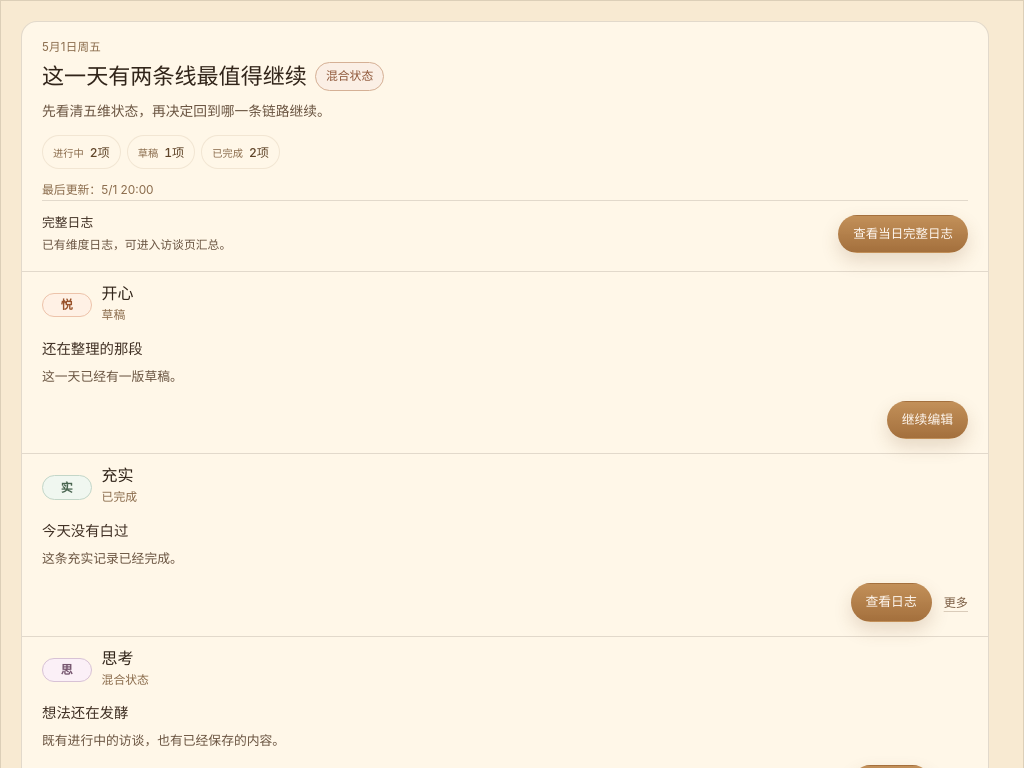
Test: calendar day shell › renders a compact day workspace with stable primary actions
expect the text "进行中" is shown: met, box [53,147,84,159]
expect the text "草稿" next to "1项" is shown: met, box [138,147,158,159]
Click the button with aria-label "充实，已完成，今天没有白过，更多操作": (956, 602) [944,593,968,612]
(page scrolled)
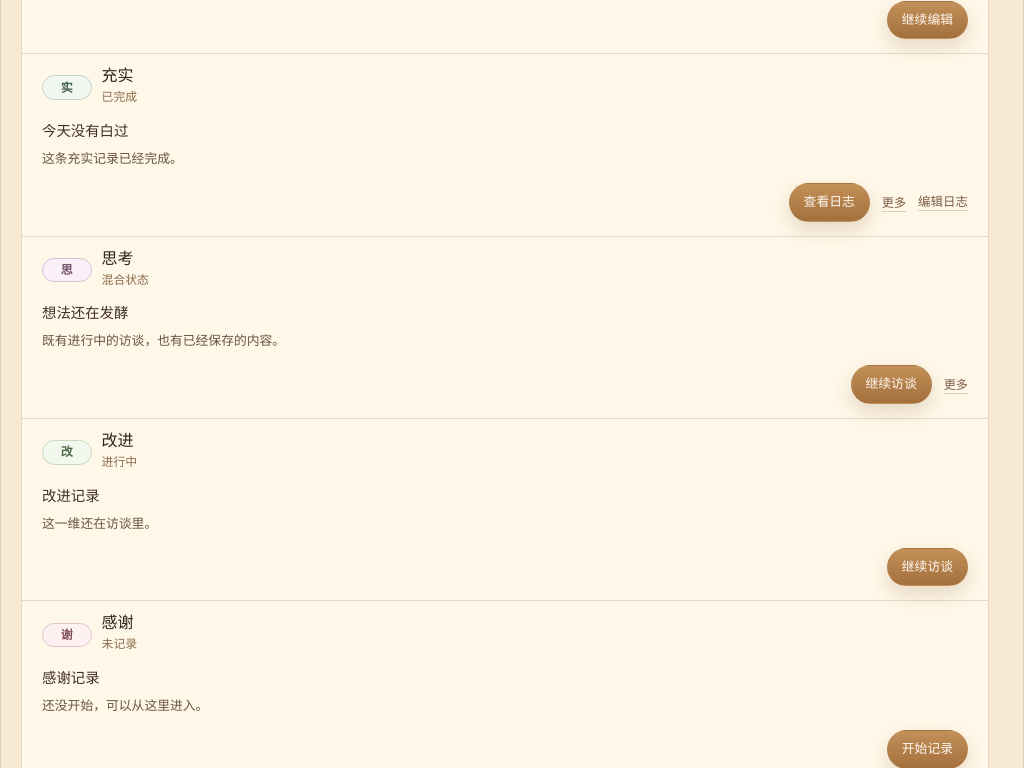
expect the text "思" is shown: met, box [42,258,92,282]
Click the button with aria-label "思考，混合状态，想法还在发酵，更多操作": (956, 385) [944,375,968,394]
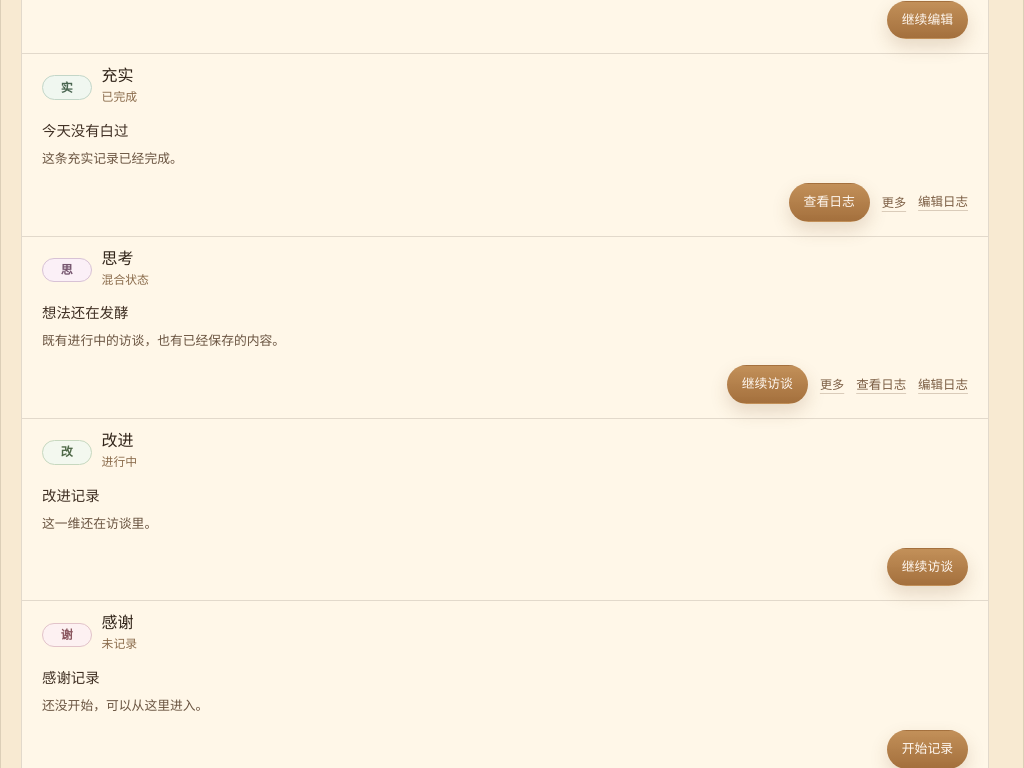
expect the text "谢" is shown: met, box [42,623,92,647]
expect the links read "继续访谈", "查看日志", "编辑日志", in this order: met, box [727,366,808,404]; [856,375,906,395]; [918,375,968,395]
